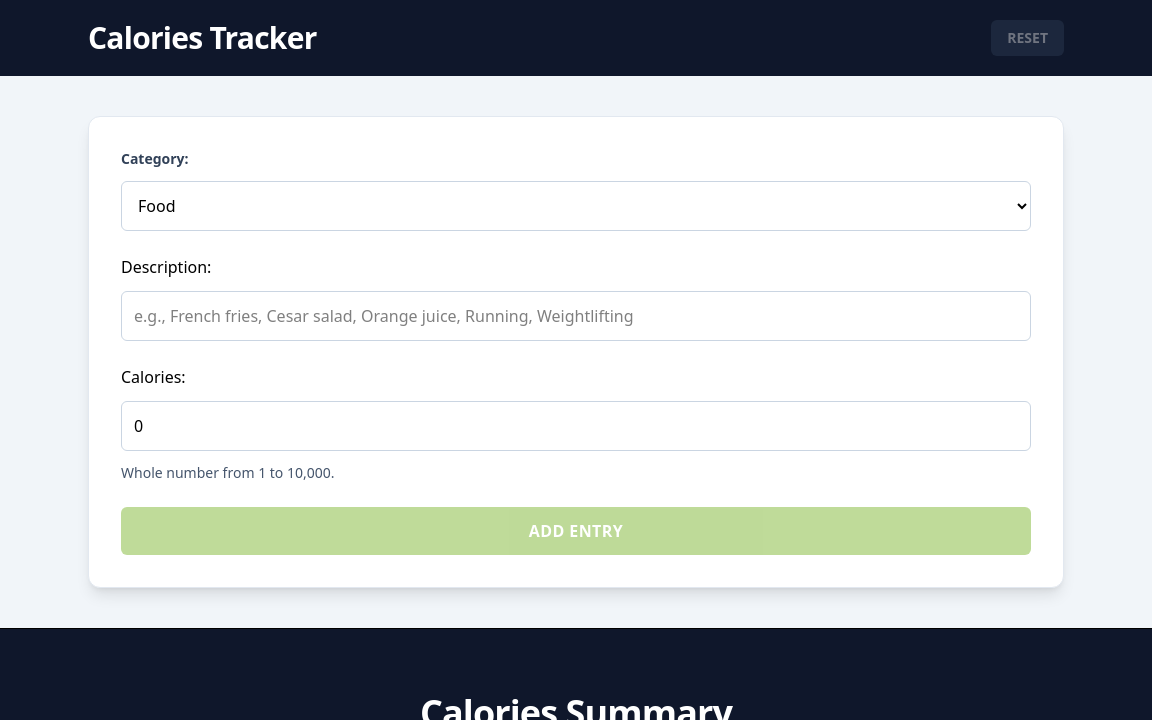
Scenario: App › adds food and exercise and updates the summary
Select "Food" in the dropdown labelled "Category:" at (576, 206), box x1=121 y1=181 x2=1031 y2=231
Type "Pasta" into the field labelled "Description:" at (576, 316), box x1=121 y1=291 x2=1031 y2=341
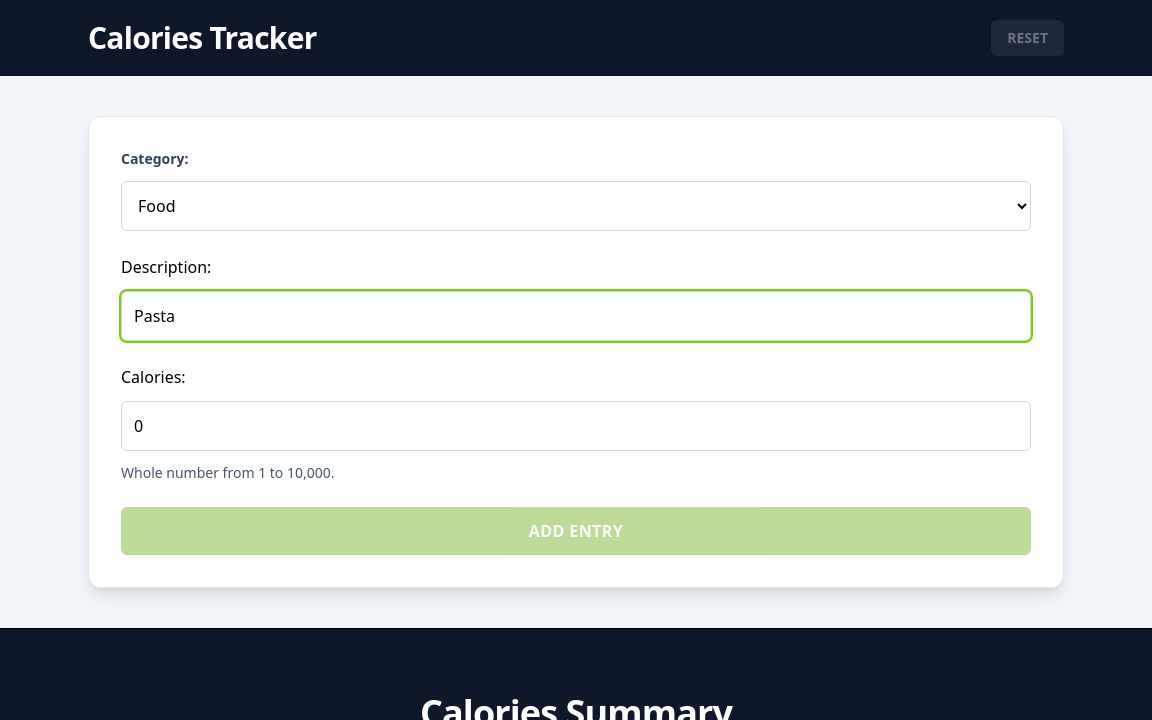
Replace the text in the number field labelled "Calories:" with "800" at (576, 426), box x1=121 y1=401 x2=1031 y2=451
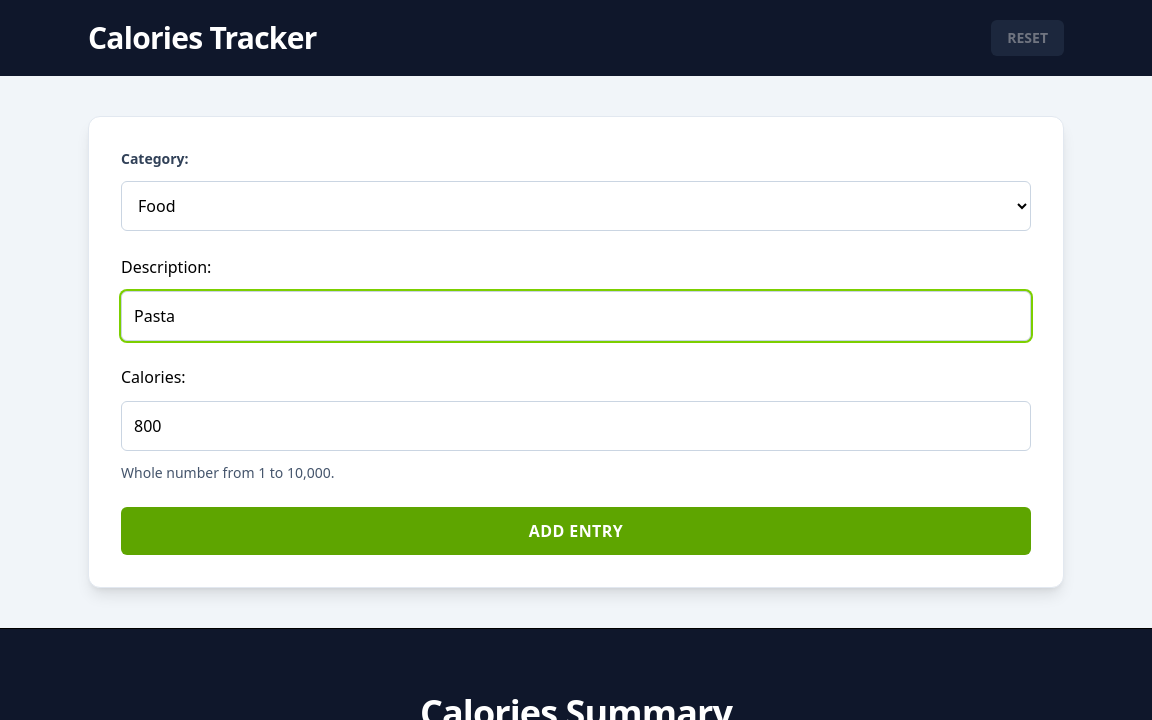
Click the button "Add Entry" at (576, 531), box x1=121 y1=507 x2=1031 y2=555
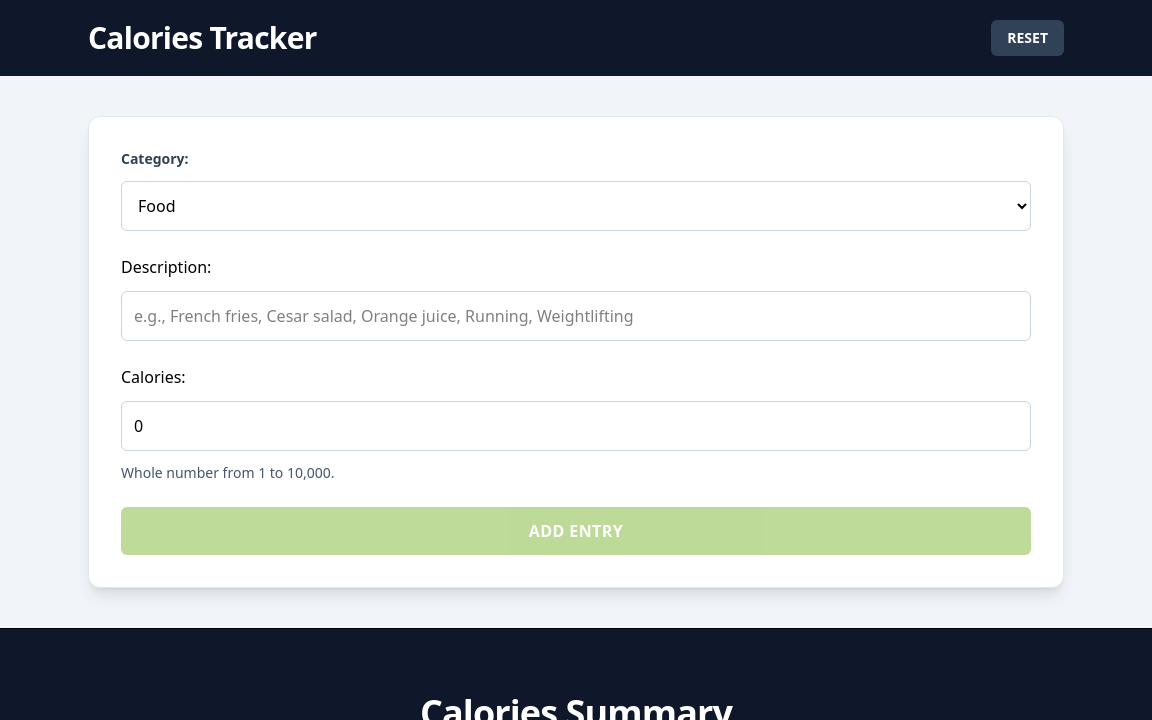
Select "Exercise" in the dropdown labelled "Category:" at (576, 206), box x1=121 y1=181 x2=1031 y2=231
Type "Running" into the field labelled "Description:" at (576, 316), box x1=121 y1=291 x2=1031 y2=341
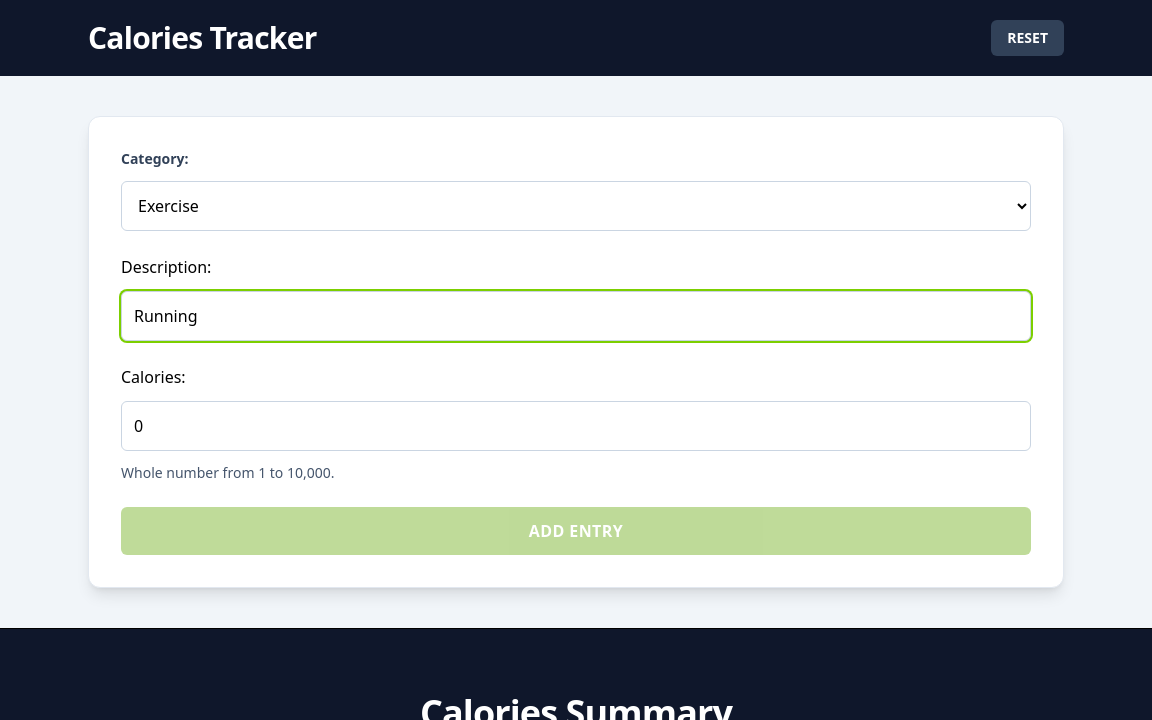
Replace the text in the number field labelled "Calories:" with "300" at (576, 426), box x1=121 y1=401 x2=1031 y2=451
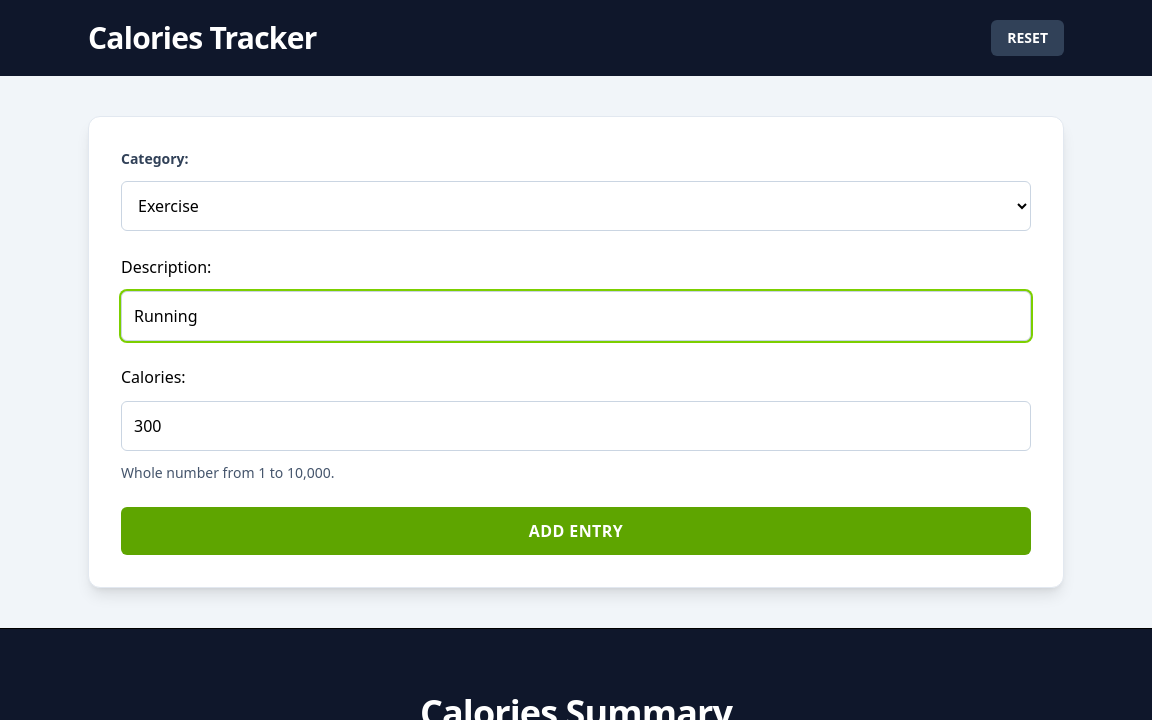
Click the button "Add Entry" at (576, 531), box x1=121 y1=507 x2=1031 y2=555
(page scrolled)
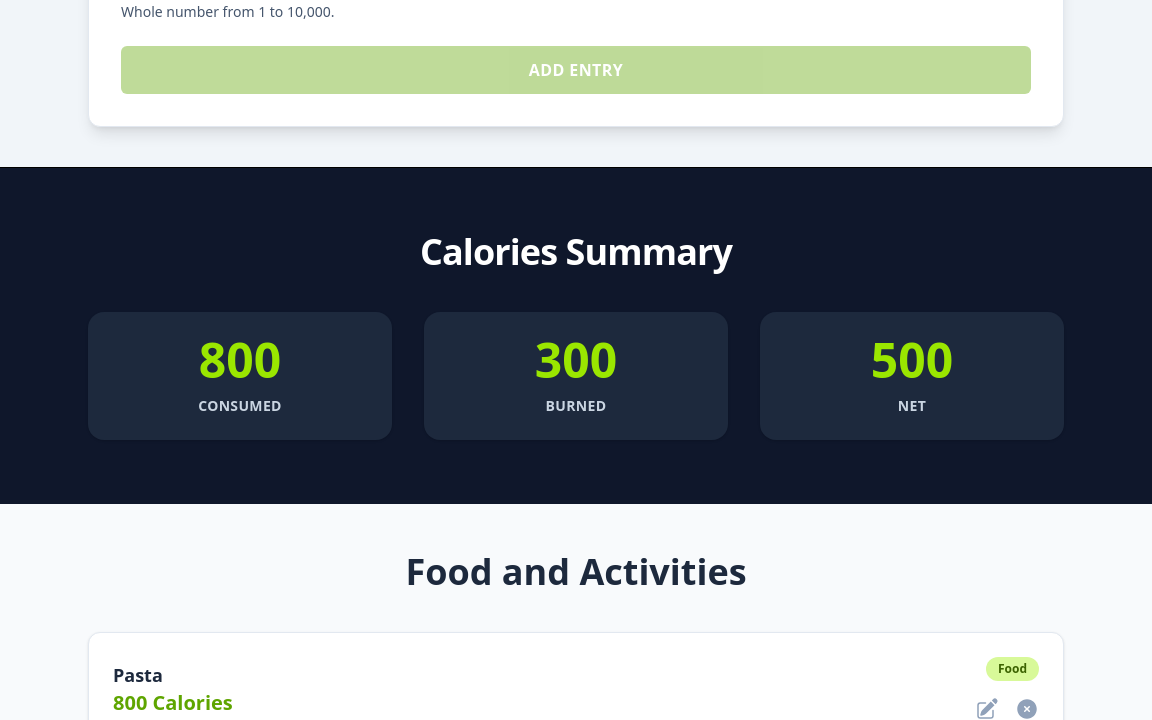
Now the heading "Pasta" is shown, box x1=113 y1=663 x2=163 y2=687
Now the text "800" is shown, box x1=199 y1=327 x2=281 y2=392
Now the text "300" is shown, box x1=535 y1=327 x2=617 y2=392
